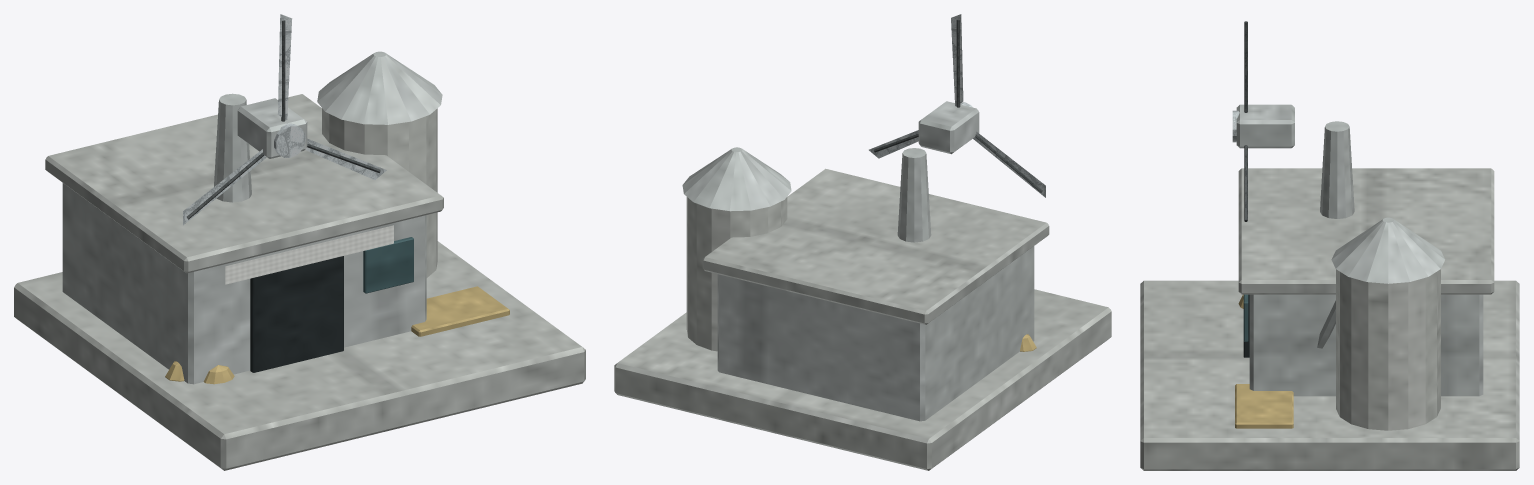
File: edificio-farm-e5-0xVNn0Pn.glb
3 views of the same model, side by side, from view 1: azimuth 30°, elevation 25°; view 2: azimuth 150°, elevation 25°; view 3: azimuth 270°, elevation 25° (orthographic). The views are drawn at different scales.
Parts seen in each view (by area): view 1: molino_e5_envolvente, rotor_molino, molino_e5_team_color; view 2: molino_e5_envolvente, rotor_molino; view 3: molino_e5_envolvente, rotor_molino.
Boxes of the visible parts, left/top/right/bottom form: molino_e5_envolvente: left=14, top=51, right=585, bottom=470; rotor_molino: left=183, top=14, right=386, bottom=225; molino_e5_team_color: left=225, top=225, right=393, bottom=284; molino_e5_envolvente: left=614, top=101, right=1111, bottom=470; rotor_molino: left=869, top=14, right=1045, bottom=197; molino_e5_envolvente: left=1140, top=104, right=1519, bottom=470; rotor_molino: left=1232, top=21, right=1247, bottom=221.
Size of the model in its own units: 52 by 52.8 by 52.
Materials: 3 (3 with a texture image).
